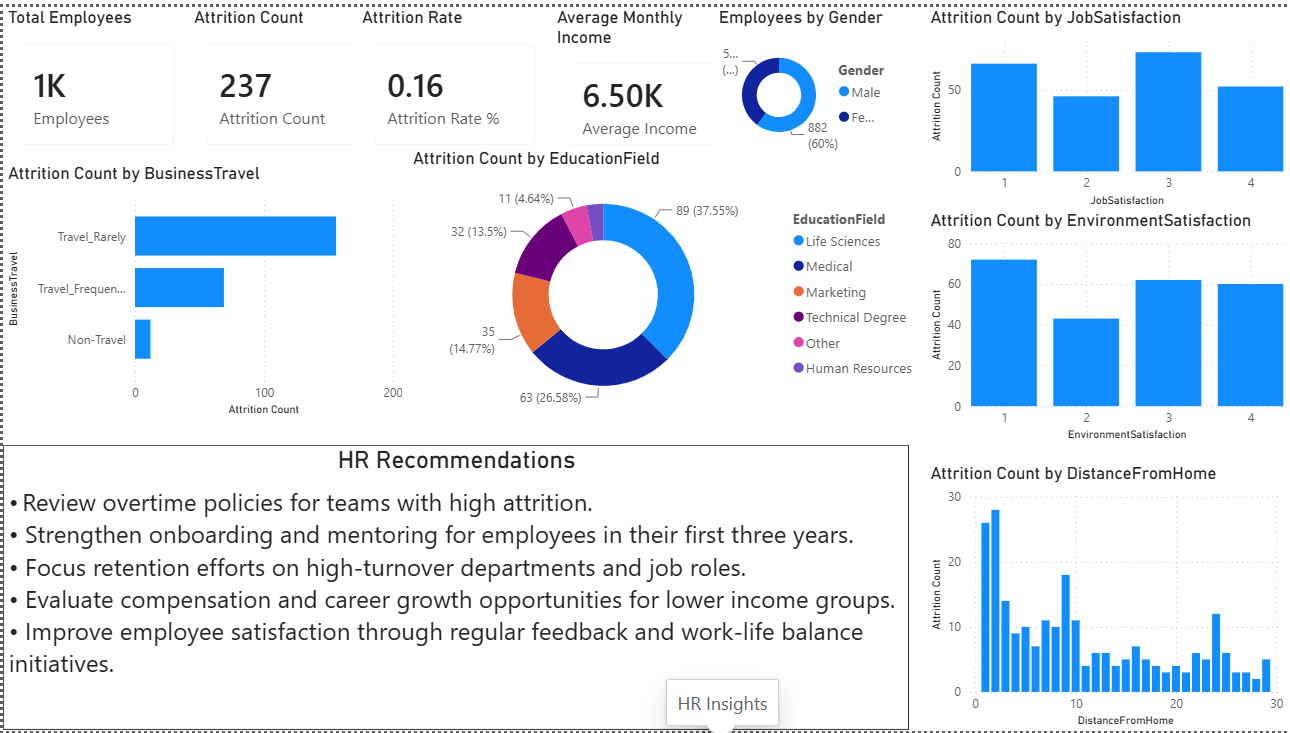

The dashboard page shown, as its layout file describes it:
{"tool":"powerbi","page":{"name":"HR Insights","canvas":[1280,720],"ordinal":3},"visuals":[{"type":"cardVisual","title":"Total Employees","fields":{"Data":["HR-Employee.Employees"]},"box":[0,0,187.1,155],"z":0},{"type":"cardVisual","title":"Attrition Count","fields":{"Data":["HR-Employee.Attrition Count"]},"box":[185.2,0,187.1,155],"z":1000},{"type":"cardVisual","title":"Attrition Rate","fields":{"Data":["HR-Employee.Attrition Rate %"]},"box":[351.5,0,194.6,155],"z":2000},{"type":"cardVisual","title":"Average Monthly Income","fields":{"Data":["HR-Employee.Average Income"]},"box":[546.1,0,181.4,155],"z":3000},{"type":"clusteredBarChart","fields":{"Category":["HR-Employee.BusinessTravel"],"Y":["HR-Employee.Attrition Count"]},"box":[0,155,402.5,255.1],"z":4000},{"type":"donutChart","fields":{"Category":["HR-Employee.EducationField"],"Y":["HR-Employee.Attrition Count"]},"box":[402.5,139.8,515.9,272.1],"z":5000},{"type":"columnChart","fields":{"Category":["HR-Employee.DistanceFromHome"],"Y":["HR-Employee.Attrition Count"]},"box":[918.4,453.5,360.9,266.5],"z":6000},{"type":"columnChart","fields":{"Category":["HR-Employee.EnvironmentSatisfaction"],"Y":["HR-Employee.Attrition Count"]},"box":[918.4,202.2,360.9,234.3],"z":7000},{"type":"columnChart","fields":{"Category":["HR-Employee.JobSatisfaction"],"Y":["HR-Employee.Attrition Count"]},"box":[918.4,0,360.9,202.2],"z":8000},{"type":"textbox","title":"HR Recommendations","box":[0,436.5,901.4,283.5],"z":9000},{"type":"donutChart","fields":{"Category":["HR-Employee.Gender"],"Y":["HR-Employee.Employees"]},"box":[706.8,0,194.6,155],"z":10000}]}

Visuals, with their boxes in screenshot pixels (x1, y1, x2, y2), scaled from the page's 1280x720 canvas onto the 1290x733 screenshot:
"Total Employees" cardVisual: <bbox>0, 0, 189, 158</bbox>
"Attrition Count" cardVisual: <bbox>187, 0, 375, 158</bbox>
"Attrition Rate" cardVisual: <bbox>354, 0, 550, 158</bbox>
"Average Monthly Income" cardVisual: <bbox>550, 0, 733, 158</bbox>
clusteredBarChart - HR-Employee.BusinessTravel x HR-Employee.Attrition Count: <bbox>0, 158, 406, 418</bbox>
donutChart - HR-Employee.EducationField x HR-Employee.Attrition Count: <bbox>406, 142, 926, 419</bbox>
columnChart - HR-Employee.DistanceFromHome x HR-Employee.Attrition Count: <bbox>926, 462, 1289, 732</bbox>
columnChart - HR-Employee.EnvironmentSatisfaction x HR-Employee.Attrition Count: <bbox>926, 206, 1289, 444</bbox>
columnChart - HR-Employee.JobSatisfaction x HR-Employee.Attrition Count: <bbox>926, 0, 1289, 206</bbox>
"HR Recommendations" textbox: <bbox>0, 444, 908, 732</bbox>
donutChart - HR-Employee.Gender x HR-Employee.Employees: <bbox>712, 0, 908, 158</bbox>
